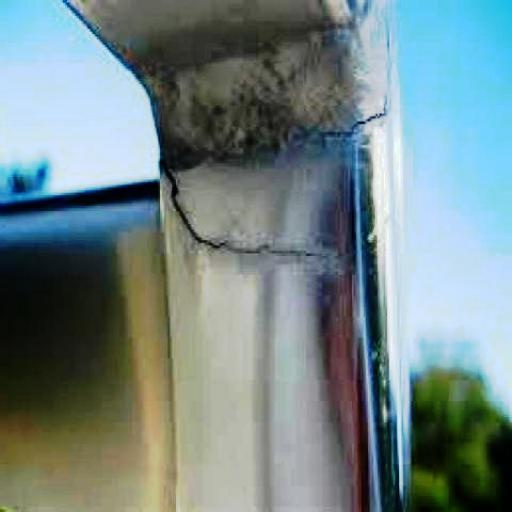crack: (160, 168, 318, 261), (322, 24, 396, 158)
